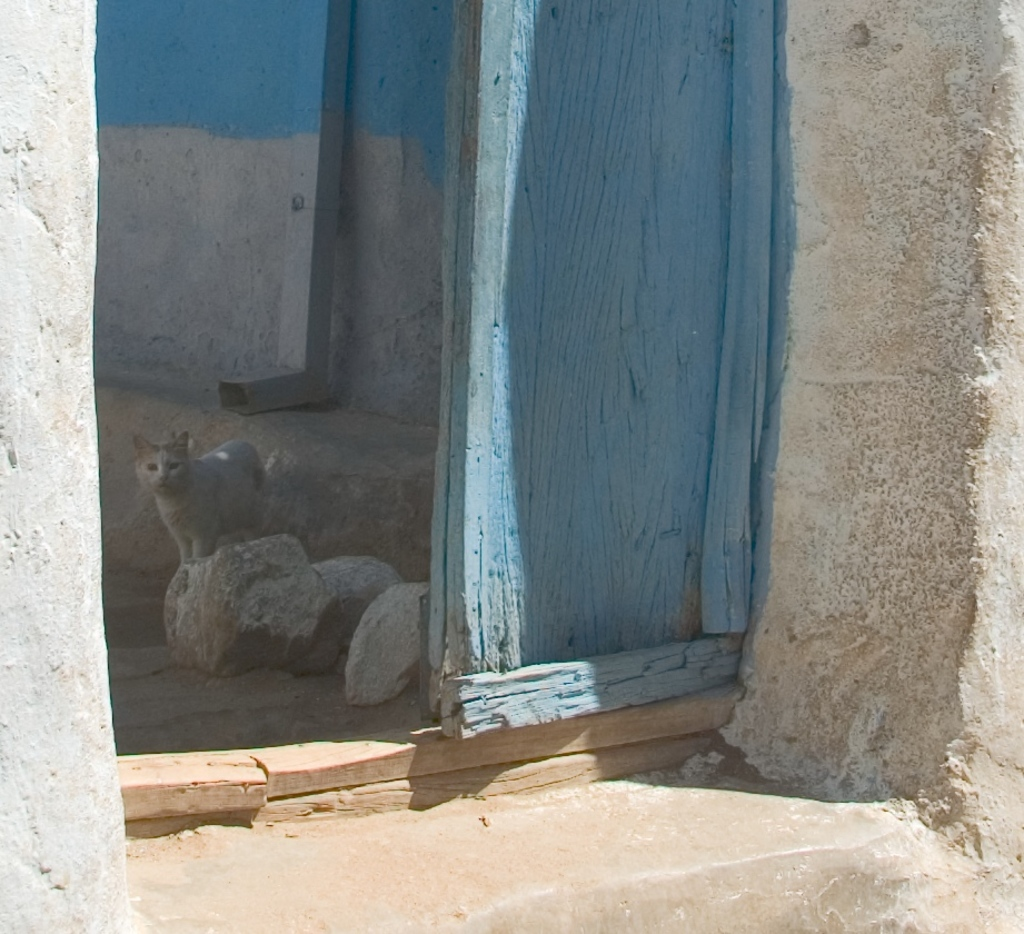Animal: (132, 430, 274, 564)
